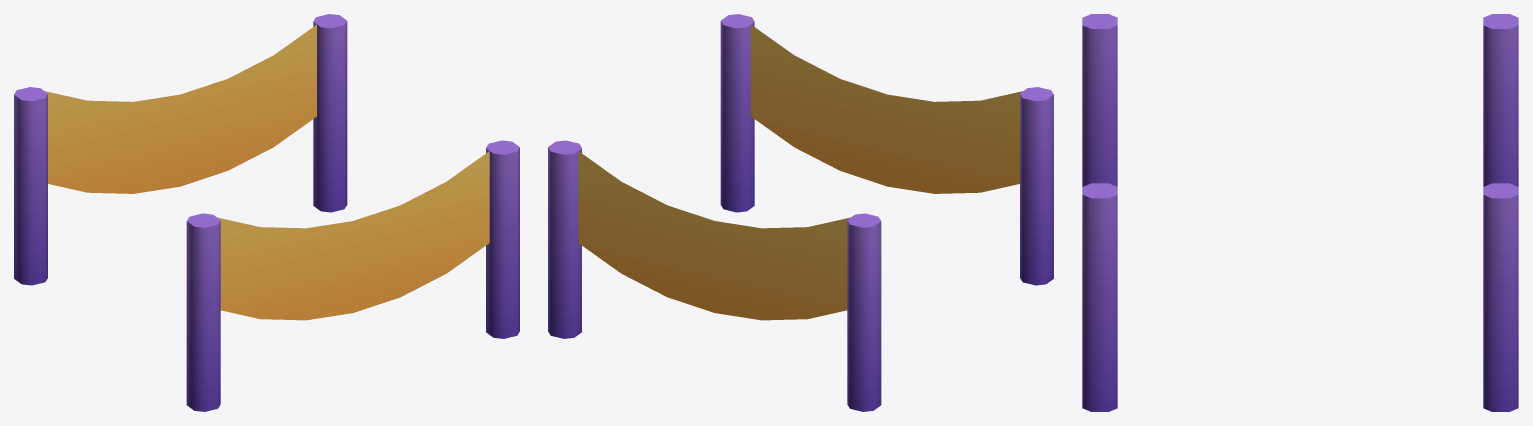
File: banner_hanging_double.glb
3 renders of one model, left to right at view 1: azimuth 30°, elevation 25°; view 2: azimuth 150°, elevation 25°; view 3: azimuth 270°, elevation 25°, orthographic. The views are drawn at different scales.
Visible parts, largest first — view 1: banner-hanging-double; view 2: banner-hanging-double; view 3: banner-hanging-double.
Part boxes in pixels (box(x1,y1,x2,y2)): banner-hanging-double: box(14, 14, 519, 411); banner-hanging-double: box(548, 14, 1053, 411); banner-hanging-double: box(1082, 14, 1518, 411).
Bounding box in the file's own units: 0.925 × 0.5 × 0.925.
1 material, 1 textured.
